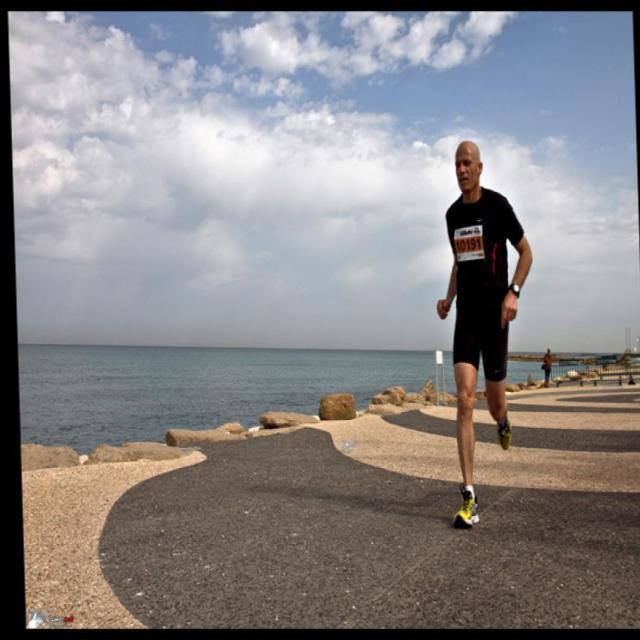dorsal: (447, 222, 486, 264)
